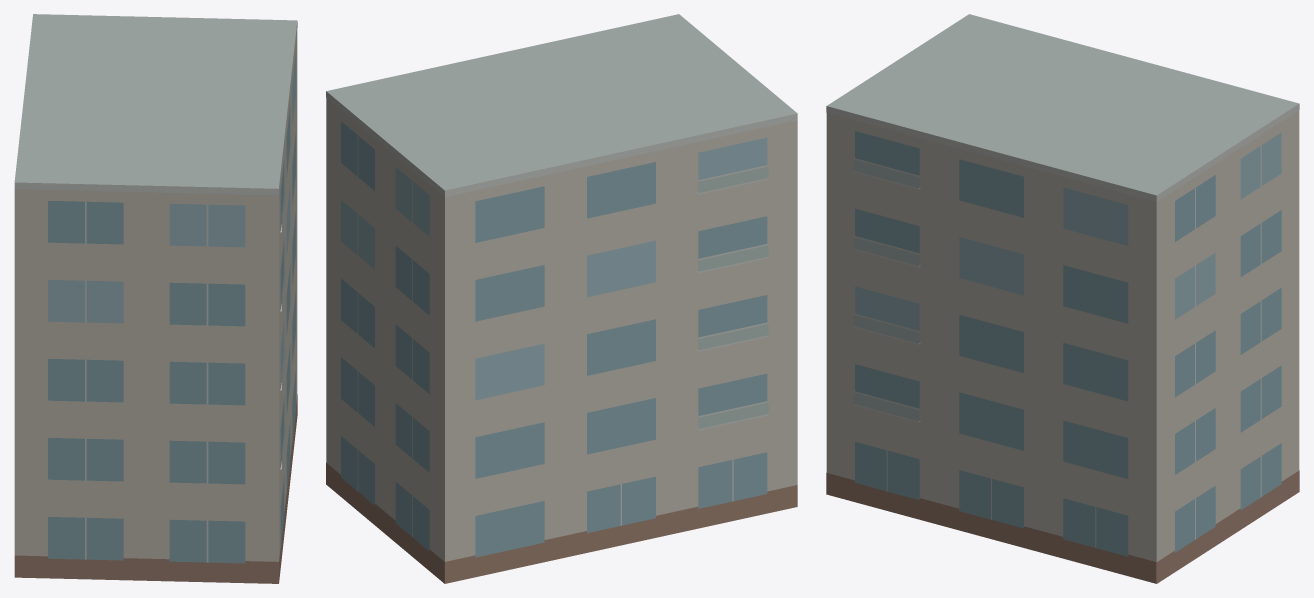
The model's file is survey-upis-32984576.glb.
3 views of the same model, side by side, from view 1: azimuth 30°, elevation 25°; view 2: azimuth 150°, elevation 25°; view 3: azimuth 270°, elevation 25° (orthographic).
Parts seen in each view (by area): view 1: survey-upis-32984576.tmp; view 2: survey-upis-32984576.tmp; view 3: survey-upis-32984576.tmp.
Boxes of the visible parts, box(x1,y1,x2,y2) form: survey-upis-32984576.tmp: box(14, 14, 297, 583); survey-upis-32984576.tmp: box(326, 14, 797, 583); survey-upis-32984576.tmp: box(826, 14, 1299, 583).
Size of the model in its own units: 14.64 by 14.6 by 16.12.
